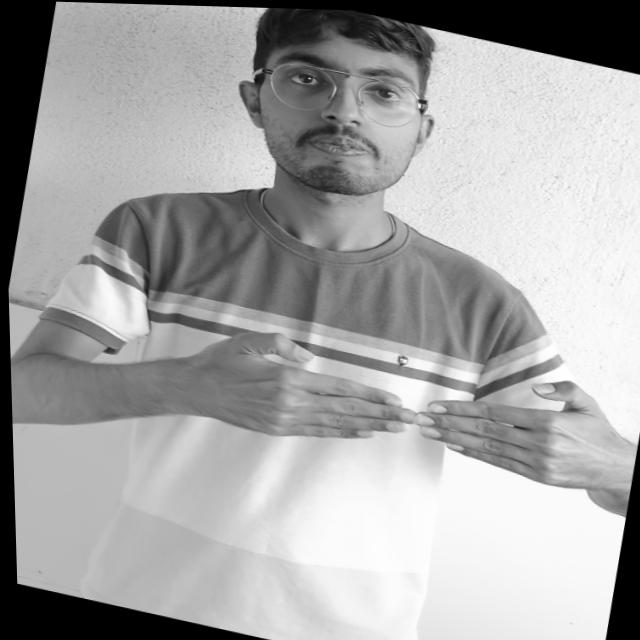Night: (159, 279, 640, 521)
